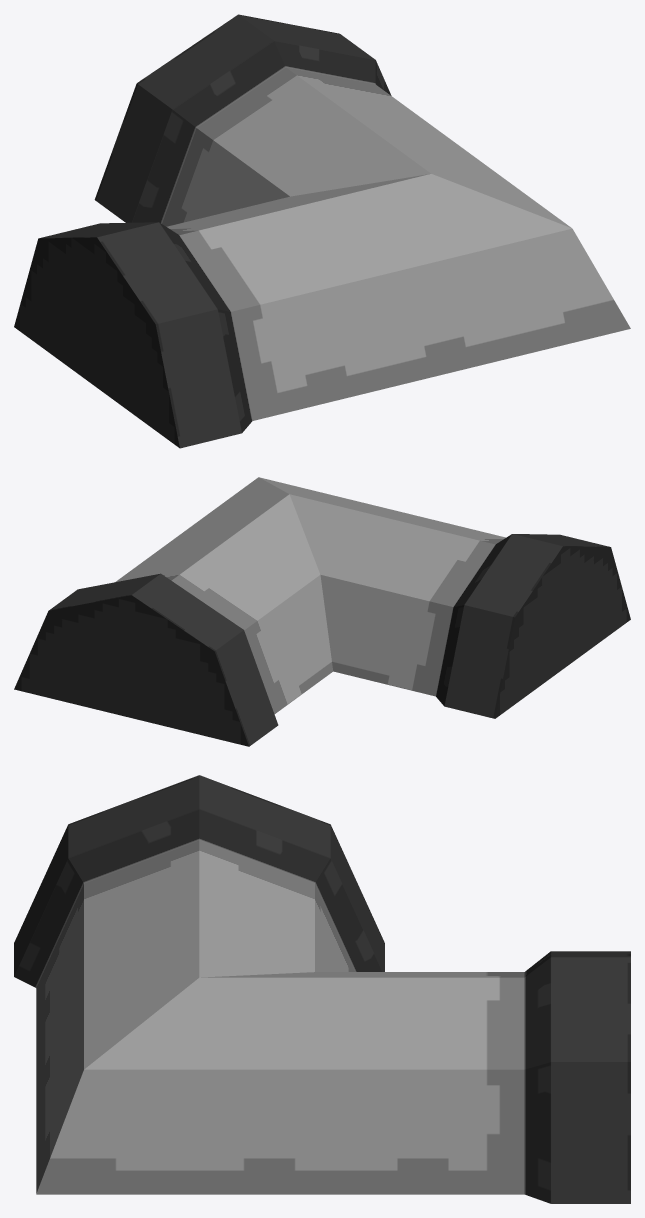
The model's file is buis bocht.FBX.
3 renders of one model, top to bottom at view 1: azimuth 30°, elevation 25°; view 2: azimuth 150°, elevation 25°; view 3: azimuth 270°, elevation 25°, orthographic. The views are drawn at different scales.
Visible parts, largest first — view 1: Cylinder003; view 2: Cylinder003; view 3: Cylinder003.
Part boxes in pixels (x1=…): Cylinder003: x1=14, y1=14, x2=630, y2=448; Cylinder003: x1=14, y1=477, x2=630, y2=746; Cylinder003: x1=14, y1=775, x2=630, y2=1203.
Size of the model in its own units: 0.7702 by 0.2315 by 0.7702.
Materials: 1 (1 with a texture image).
